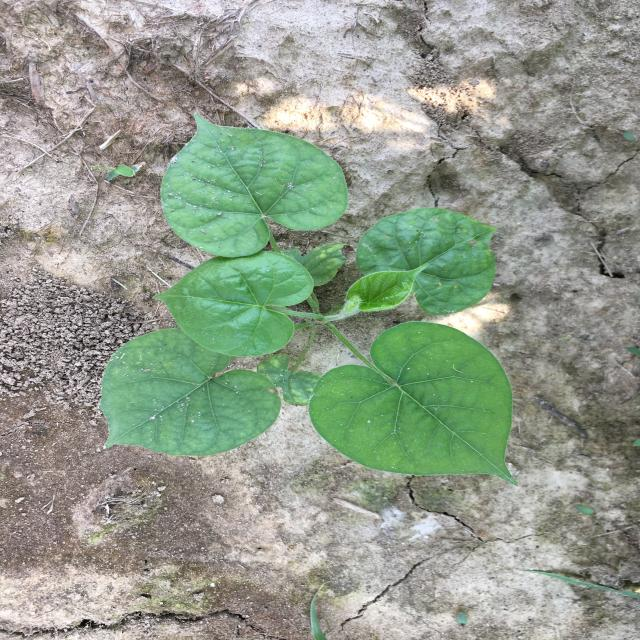MorningGlory: (100, 112, 521, 488)
